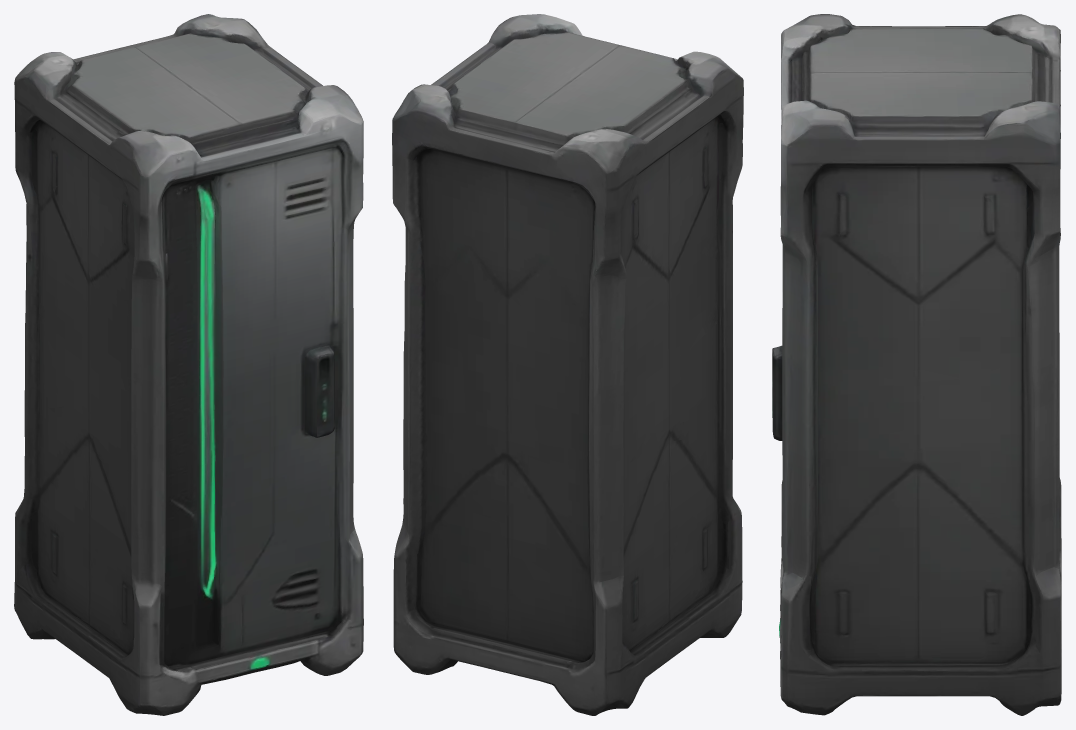
File: m_burn.glb
3 renders of one model, left to right at view 1: azimuth 30°, elevation 25°; view 2: azimuth 150°, elevation 25°; view 3: azimuth 270°, elevation 25°, orthographic. The views are drawn at different scales.
Visible parts, largest first — view 1: geometry_0; view 2: geometry_0; view 3: geometry_0.
Part boxes in pixels (bbox=[...]): geometry_0: bbox=[14, 14, 363, 715]; geometry_0: bbox=[392, 14, 743, 715]; geometry_0: bbox=[772, 14, 1061, 715].
Size of the model in its own units: 0.4184 by 1 by 0.4431.
1 material, 1 textured.
